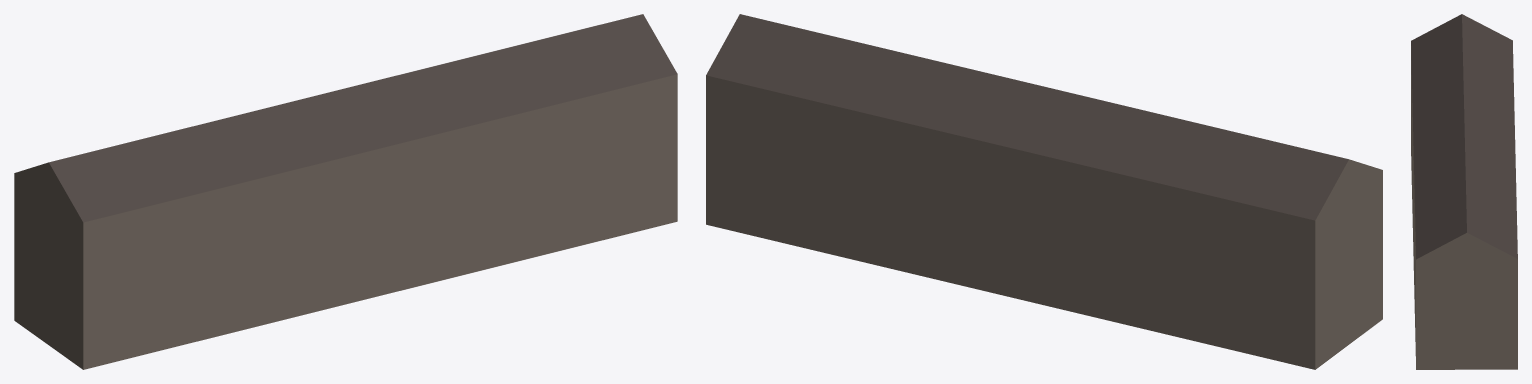
3 renders of one model, left to right at view 1: azimuth 30°, elevation 25°; view 2: azimuth 150°, elevation 25°; view 3: azimuth 270°, elevation 25°, orthographic. The views are drawn at different scales.
Visible parts, largest first — view 1: HP-w859424274; view 2: HP-w859424274; view 3: HP-w859424274.
Boxes of the visible parts, x1,y1,x2,y2 form: HP-w859424274: [14, 14, 677, 369]; HP-w859424274: [706, 14, 1382, 369]; HP-w859424274: [1411, 14, 1517, 369].
Bounding box in the file's own units: 38.29 × 11.17 × 7.89.
